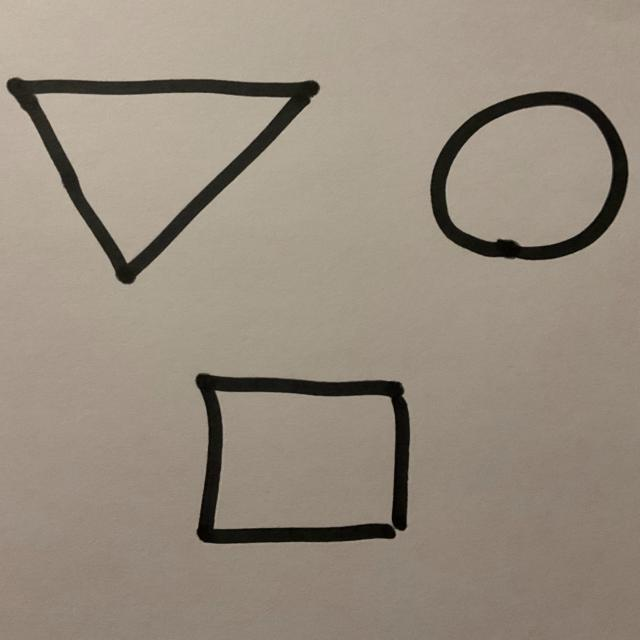Dreieck: (6, 78, 321, 287)
Kreis: (429, 91, 631, 263)
Quadrat: (194, 374, 412, 547)
